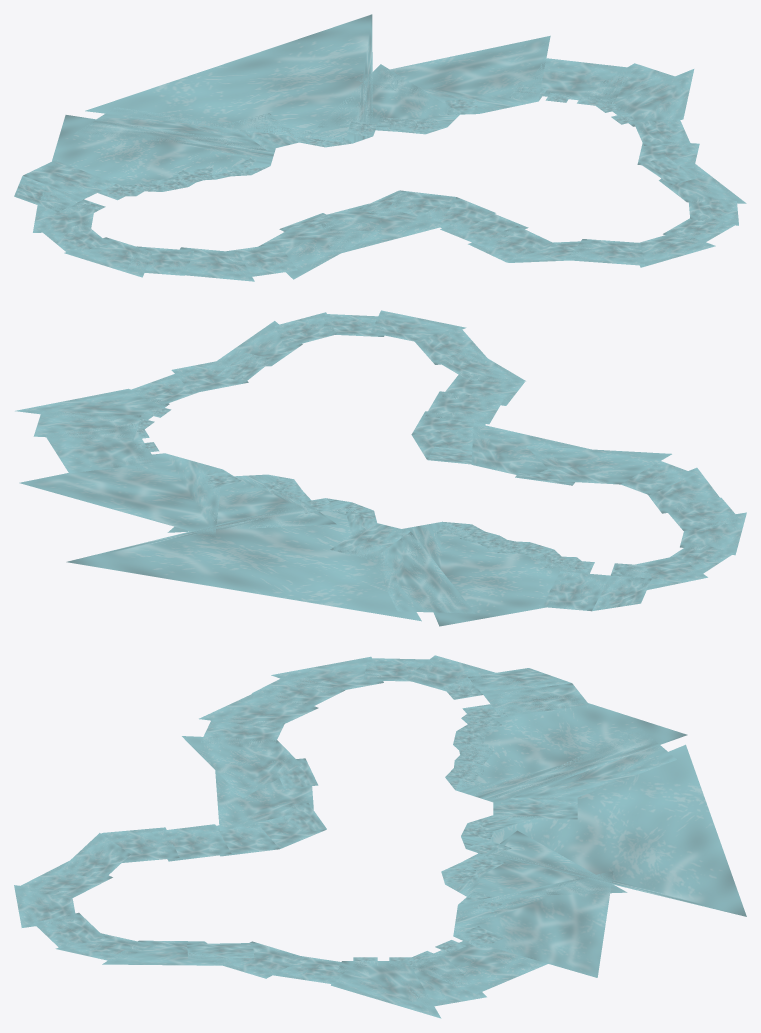
File: LV5Nav.fbx
3 views of the same model, one above another, from view 1: azimuth 30°, elevation 25°; view 2: azimuth 150°, elevation 25°; view 3: azimuth 270°, elevation 25° (orthographic). The views are drawn at different scales.
Parts seen in each view (by area): view 1: polySurface161; view 2: polySurface161; view 3: polySurface161.
Part boxes in pixels (bbox=[...]): polySurface161: bbox=[14, 14, 746, 281]; polySurface161: bbox=[15, 310, 746, 626]; polySurface161: bbox=[14, 655, 746, 1018].
Size of the model in its own units: 674 by 0 by 574.
